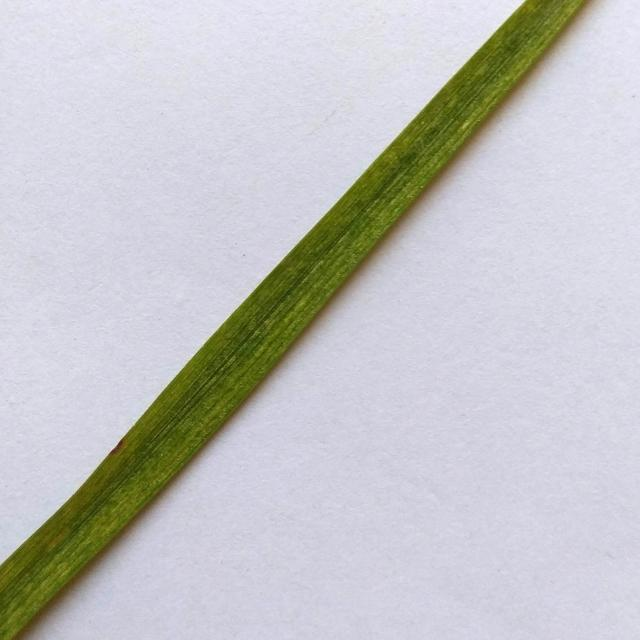brownspots: (108, 432, 130, 460)
